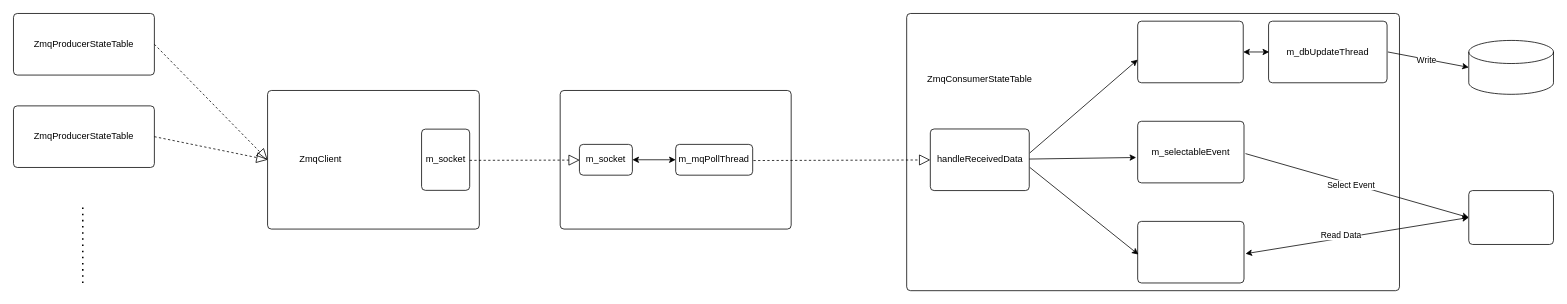
The diagram is 1567 pixels wide and 304 high, and some of its shapes have lost their labels. The shapes that lost their labels are listed below. From the top down, each one's box as (x1, y1, x2, y2) in pixels, then its label:
(1137, 20, 1243, 83): m_DbUpdateDataQueue
(1468, 40, 1553, 94): Redis
(559, 90, 791, 125): ZmqServer
(1489, 190, 1532, 244): Select
(1137, 221, 1244, 283): m_mqPoolDataQueue
